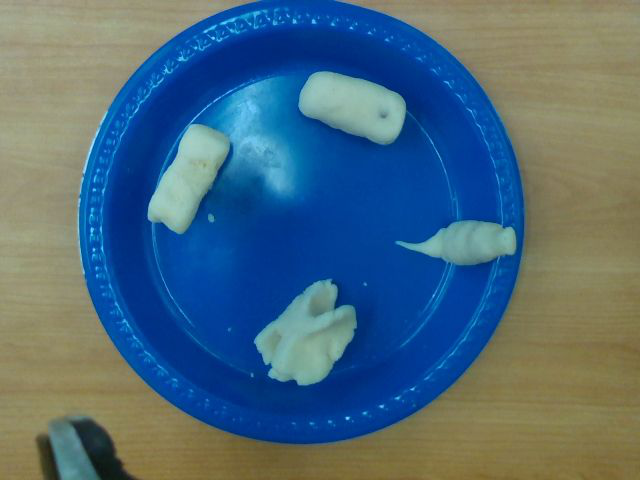mashed_potato: (251, 278, 356, 385), (147, 124, 230, 234), (298, 71, 407, 145), (397, 220, 517, 265)
